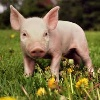heo: (6, 3, 64, 62)
